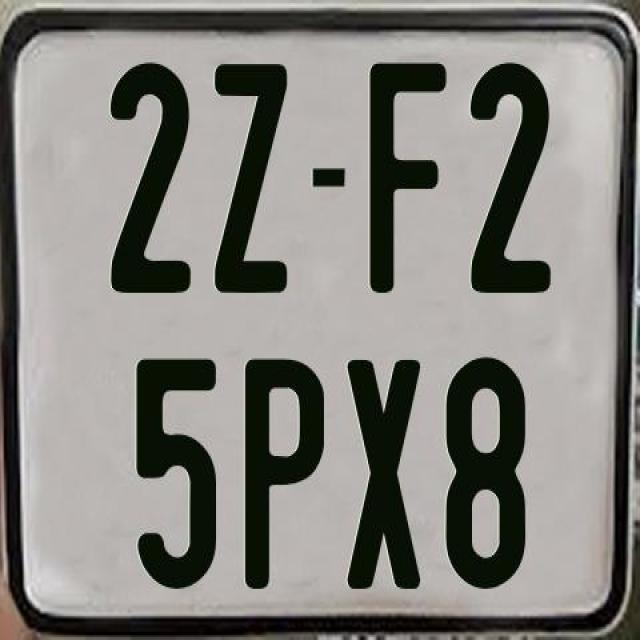2: (110, 59, 192, 296), (470, 58, 550, 292)
5: (132, 358, 218, 596)
8: (442, 354, 522, 588)
F: (369, 59, 452, 294)
P: (241, 357, 323, 597)
X: (345, 355, 420, 584)
Z: (212, 59, 284, 293)
